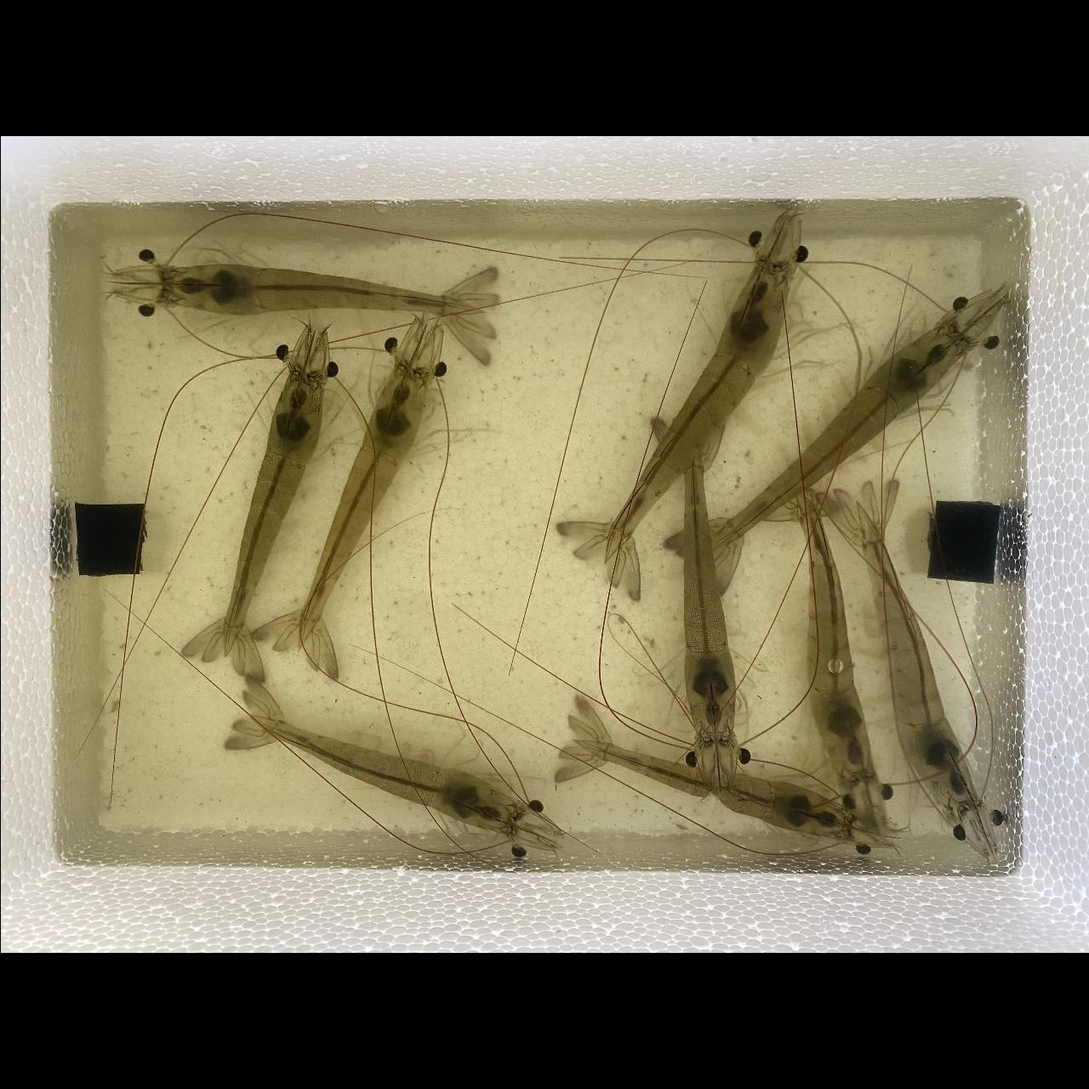box: (928, 502, 1001, 583), (74, 503, 145, 577)
top_shrimp: (701, 327, 962, 556), (604, 267, 788, 560), (299, 366, 428, 649), (857, 499, 974, 810), (245, 711, 514, 833), (225, 374, 322, 656), (572, 742, 848, 837), (794, 488, 869, 781), (682, 414, 735, 745), (161, 264, 483, 316)
